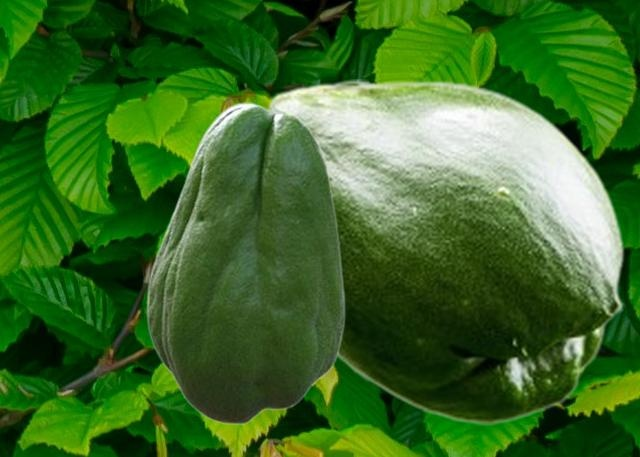sayote: (263, 79, 624, 424), (146, 102, 345, 424)
